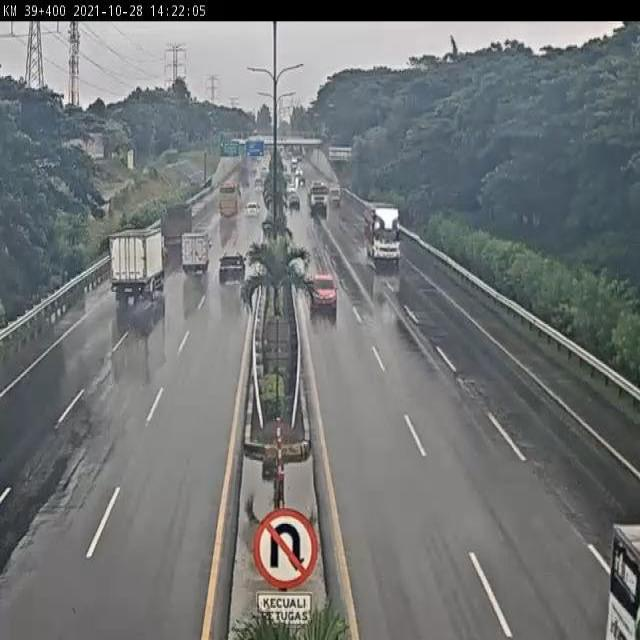big bus: (218, 178, 241, 218)
car: (307, 277, 339, 315)
truck-l-: (108, 221, 168, 300), (360, 199, 404, 264), (162, 207, 196, 250)
truck-s-: (180, 236, 210, 279)
truck-xl-: (307, 180, 330, 213)
